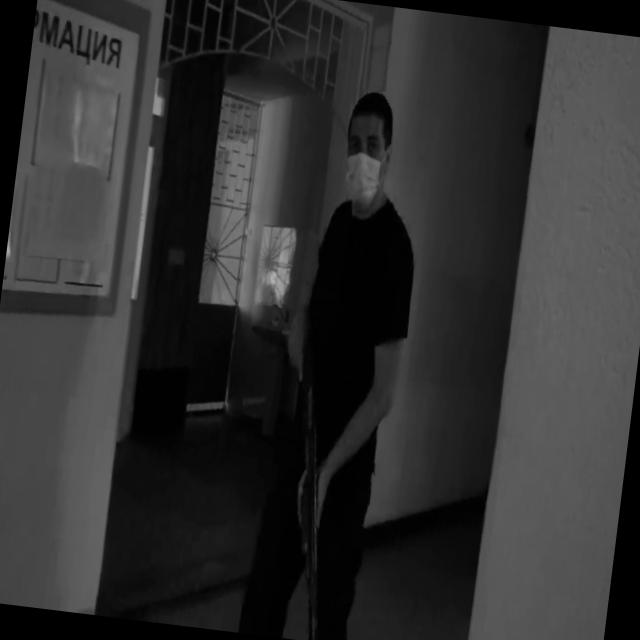gun: (266, 331, 355, 640)
person with a gun: (237, 81, 437, 640)
